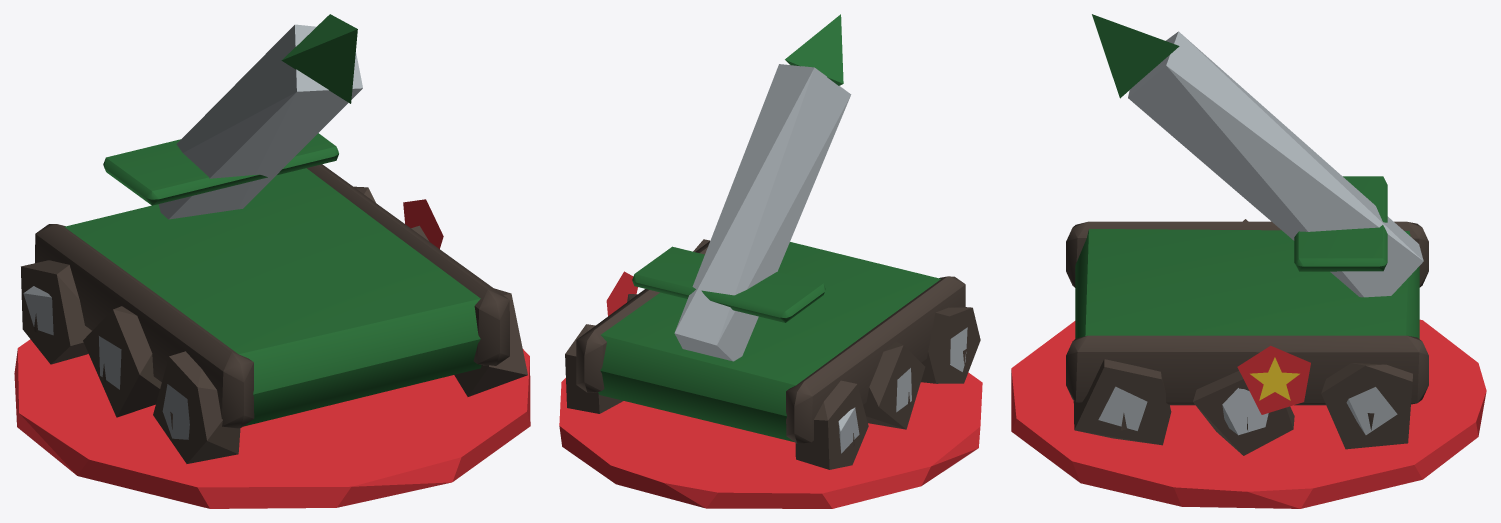
The model's file is vietnam_missile_lod1.glb.
3 views of the same model, side by side, from view 1: azimuth 30°, elevation 25°; view 2: azimuth 150°, elevation 25°; view 3: azimuth 270°, elevation 25° (orthographic). The views are drawn at different scales.
Parts seen in each view (by area): view 1: body_hull, base_pedestal; view 2: body_hull, base_pedestal; view 3: body_hull, base_pedestal.
Boxes of the visible parts, <box> form: body_hull: <box>21,14,527,463</box>; base_pedestal: <box>14,339,530,508</box>; body_hull: <box>565,14,980,469</box>; base_pedestal: <box>559,372,982,508</box>; body_hull: <box>1066,14,1428,455</box>; base_pedestal: <box>1011,319,1486,508</box>.
Bounding box in the file's own units: 0.7751 × 0.7111 × 0.7751.
